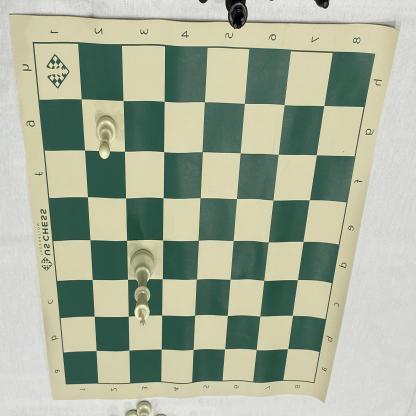white-king: (128, 247, 156, 330)
white-pawn: (92, 111, 119, 165)
